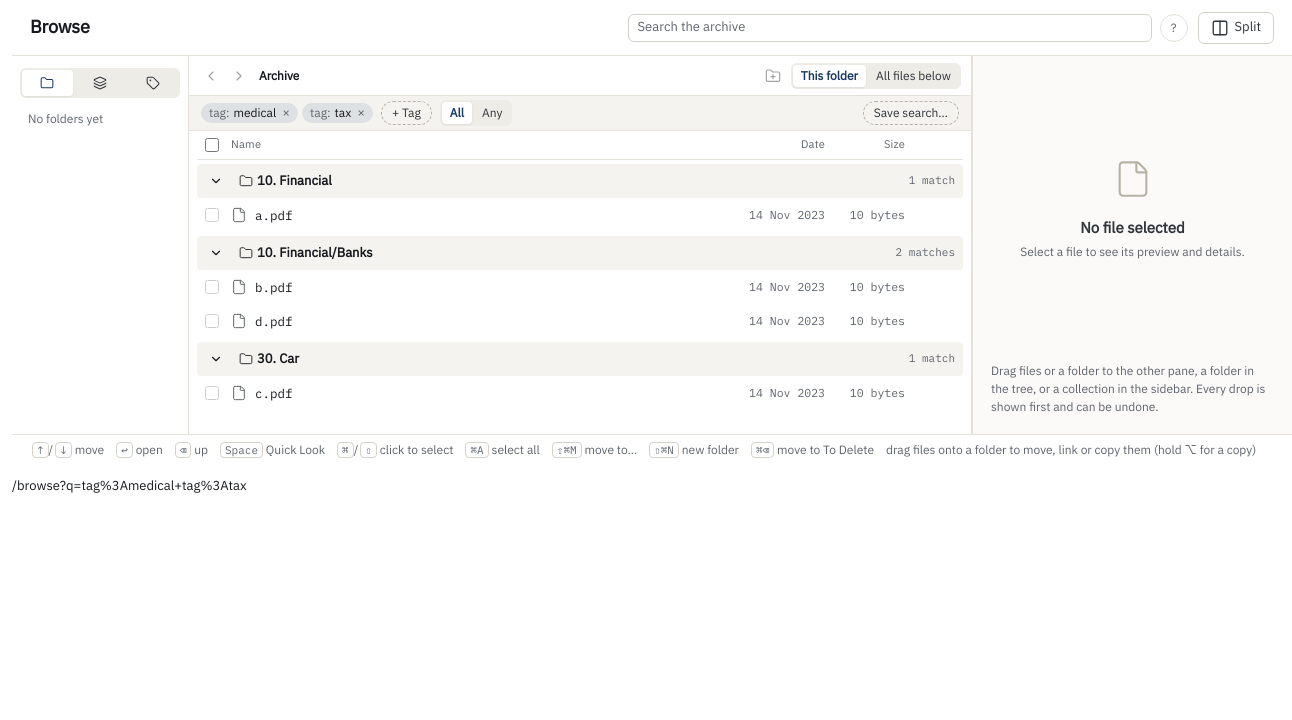
The tags row › a chip's x removes the tag; the last one removes the row
Expected: the list named "Search results" is shown, [189, 164, 971, 410]
Click the button named "Remove filter tag:medical": click(286, 113) [278, 106, 294, 120]
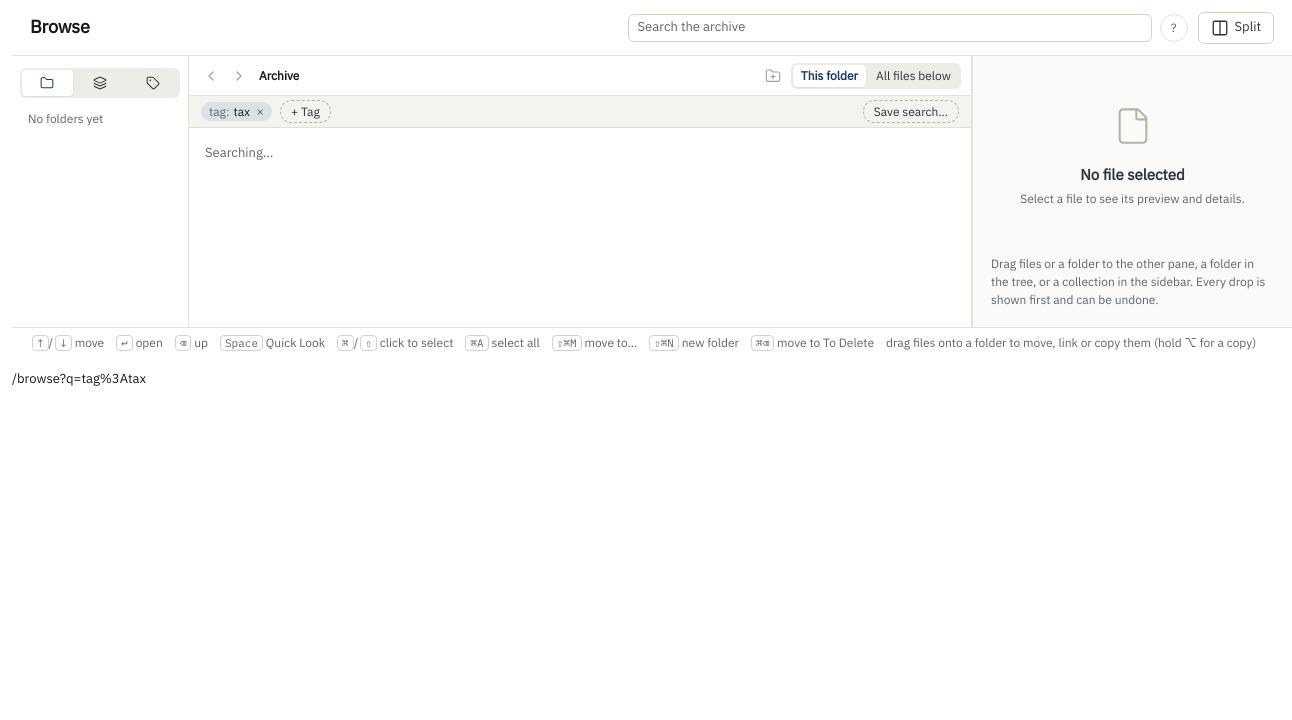
Expected: the text with test id "where" reads "/browse?q=tag%3Atax", [12, 370, 146, 387]
Click the button named "Remove filter tag:tax": click(260, 112) [252, 105, 268, 118]
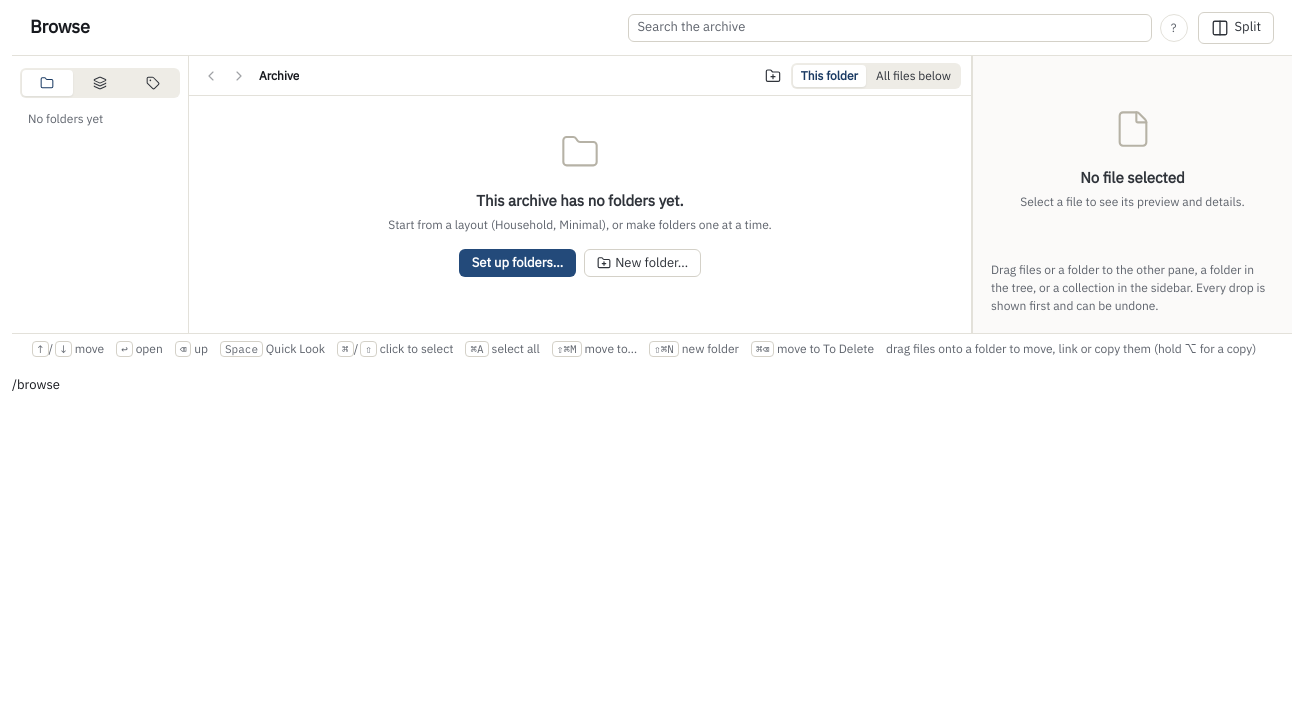
Expected: the text with test id "where" reads "/browse", [12, 376, 60, 393]
Expected: the element with class "tag-bar" is gone
